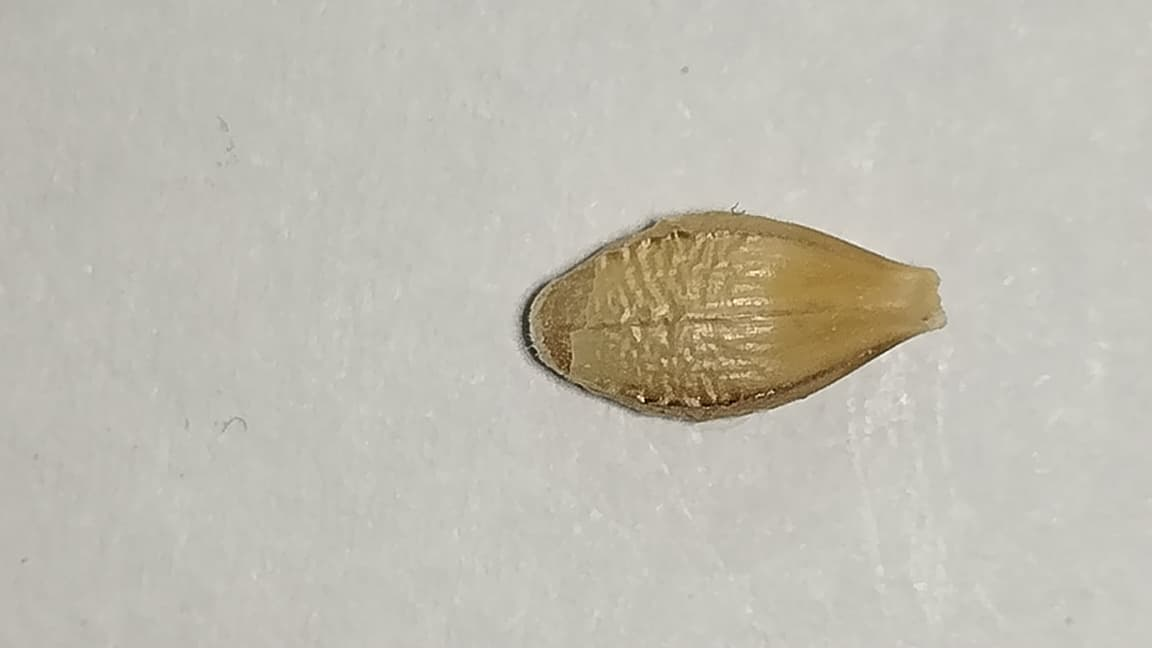healthy-70-60: (529, 207, 945, 419)
